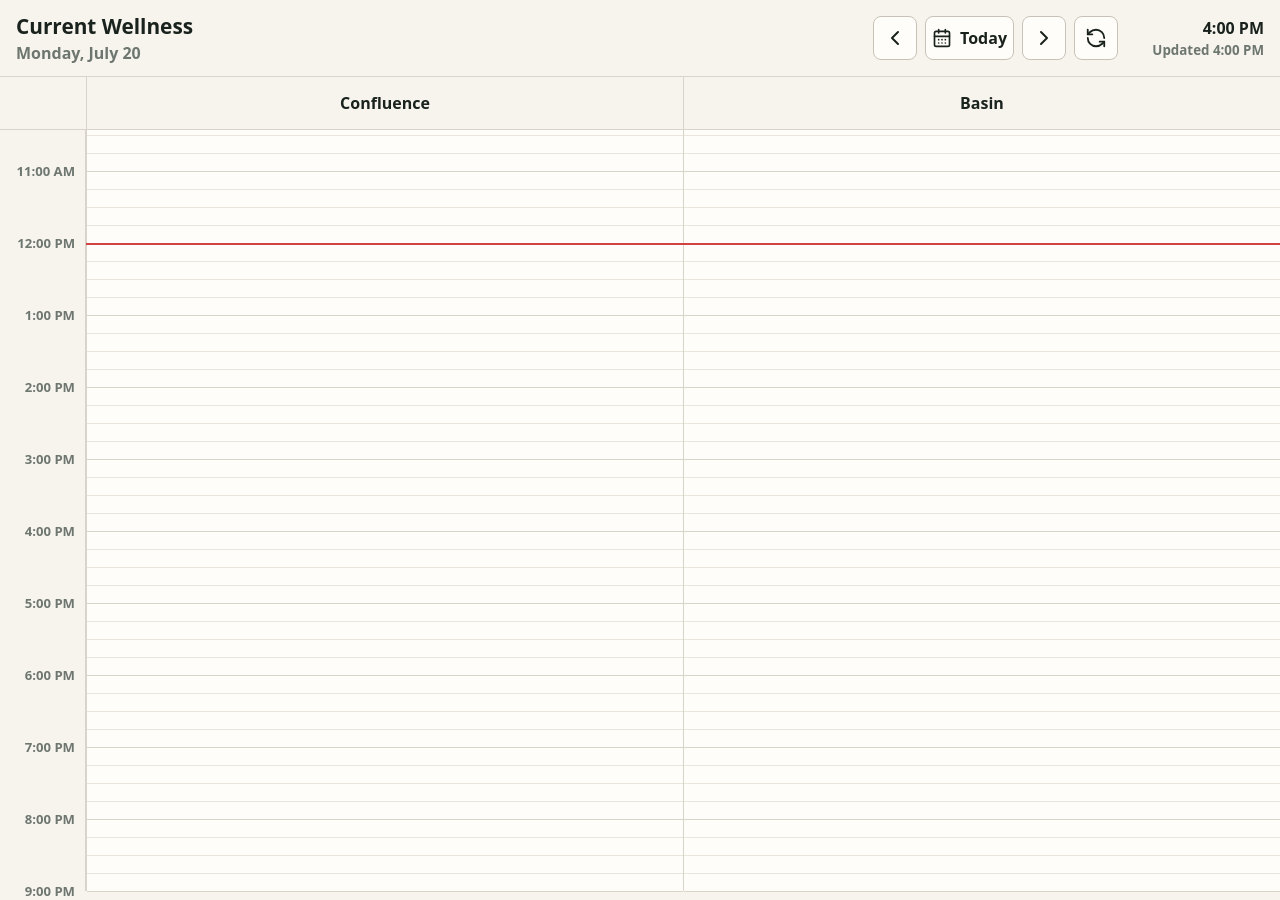
Scenario: page idle reset › resets the idle timer on interaction
(page scrolled)
Click the button named "Next day" at coordinates (1044, 38), box [1022,16,1066,60]
Wait 120000 ms
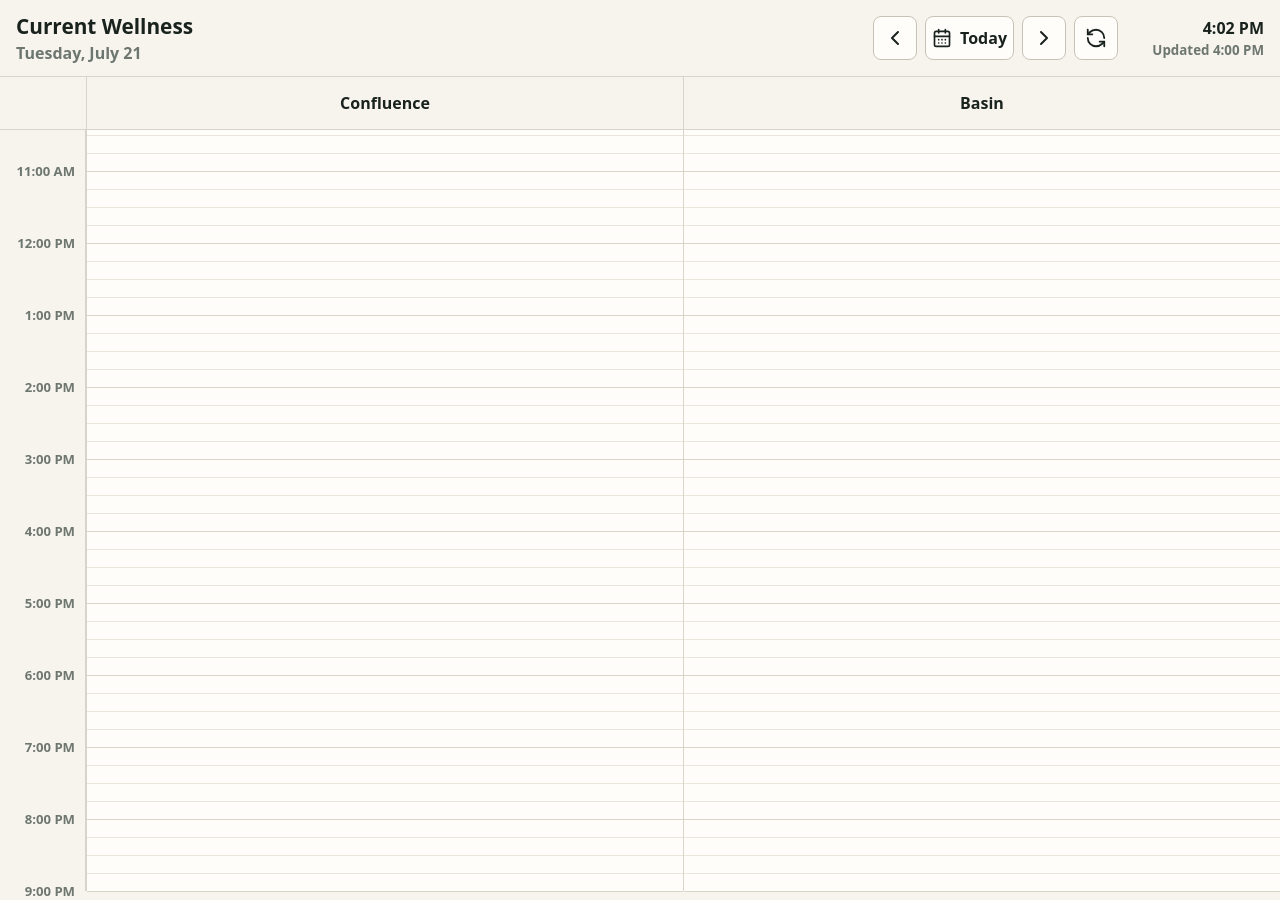
Press Shift
Wait 180000 ms
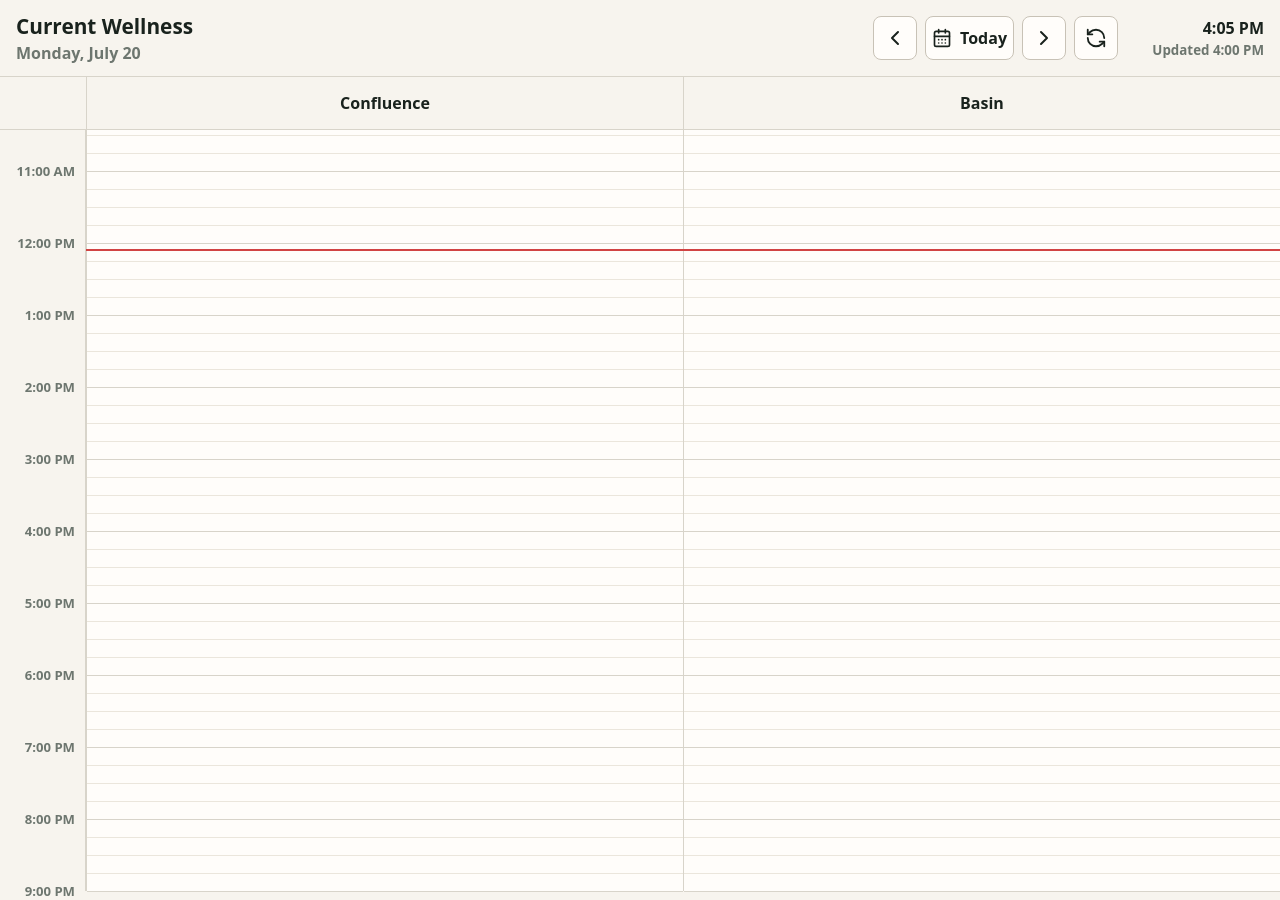
expect the text "Monday, July 20" is shown: met, box [16,42,141,64]
